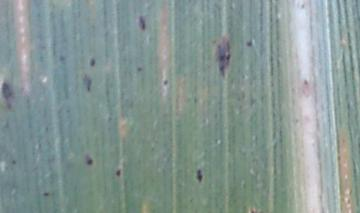tarspot: (212, 34, 232, 79), (80, 72, 93, 94), (1, 80, 13, 100), (137, 14, 147, 32), (83, 153, 94, 166), (194, 168, 204, 182), (57, 52, 68, 63), (88, 56, 97, 68), (113, 168, 123, 177), (244, 38, 253, 48), (4, 101, 13, 111), (192, 95, 199, 106), (135, 65, 143, 74), (302, 77, 309, 86), (41, 191, 50, 198), (106, 115, 113, 124), (44, 124, 50, 134), (162, 78, 169, 86), (9, 159, 17, 166), (210, 38, 218, 45), (299, 2, 306, 10), (248, 208, 256, 213)
